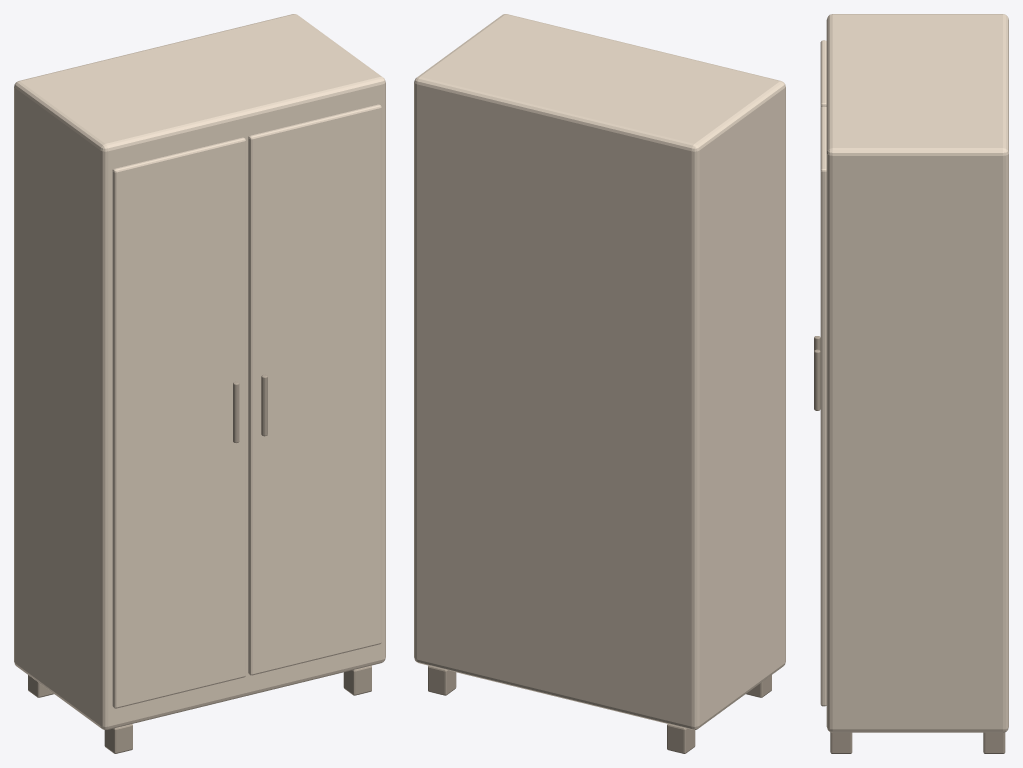
File: doors__entries___window_views_asset_sheet_40.glb
3 views of the same model, side by side, from view 1: azimuth 30°, elevation 25°; view 2: azimuth 150°, elevation 25°; view 3: azimuth 270°, elevation 25° (orthographic).
Parts seen in each view (by area): view 1: Cube; view 2: Cube; view 3: Cube.
Part boxes in pixels (x1,y1,x2,y2): Cube: (14,14,385,753); Cube: (414,14,785,753); Cube: (814,14,1008,753).
Bounding box in the file's own units: 0.9 × 1.85 × 0.535.
